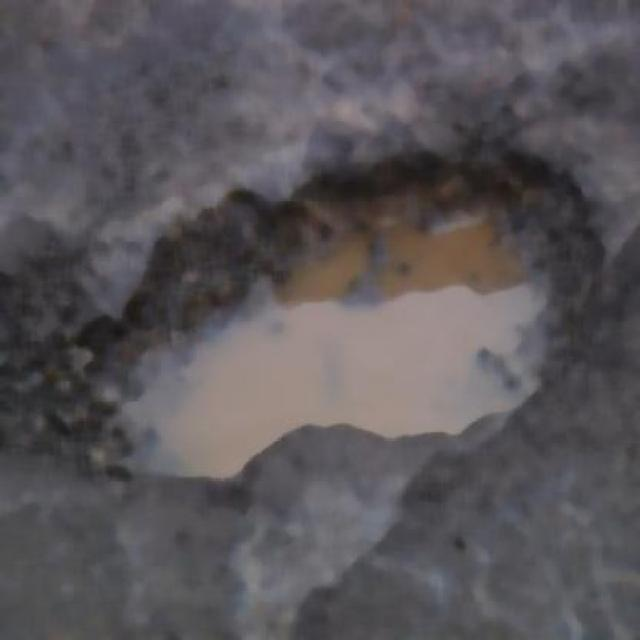Pothole: (0, 130, 604, 479)
